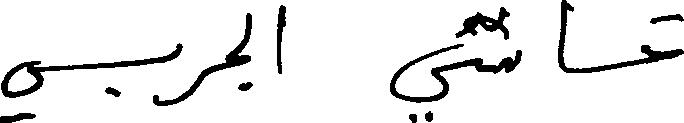X: (0, 56, 83, 122), (390, 42, 448, 122), (478, 2, 520, 78), (641, 9, 683, 68), (227, 8, 251, 95), (183, 64, 206, 105), (276, 0, 284, 78), (558, 0, 566, 77), (174, 38, 181, 108)
